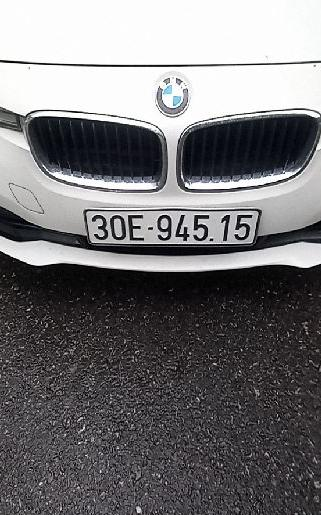Plate-iWeP: (84, 208, 262, 249)
